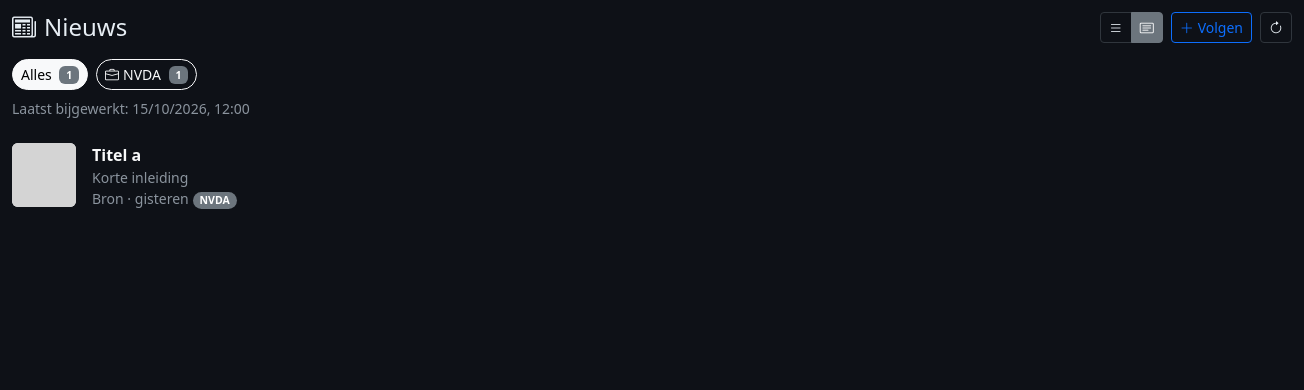
NewsComponent › verbergt afbeelding en inleiding in de compacte weergave en onthoudt die keuze
This screenshot has width=1304, height=390.
Click the button with test id "view-compact". click: (1116, 28)
box: left=1100, top=12, right=1132, bottom=43
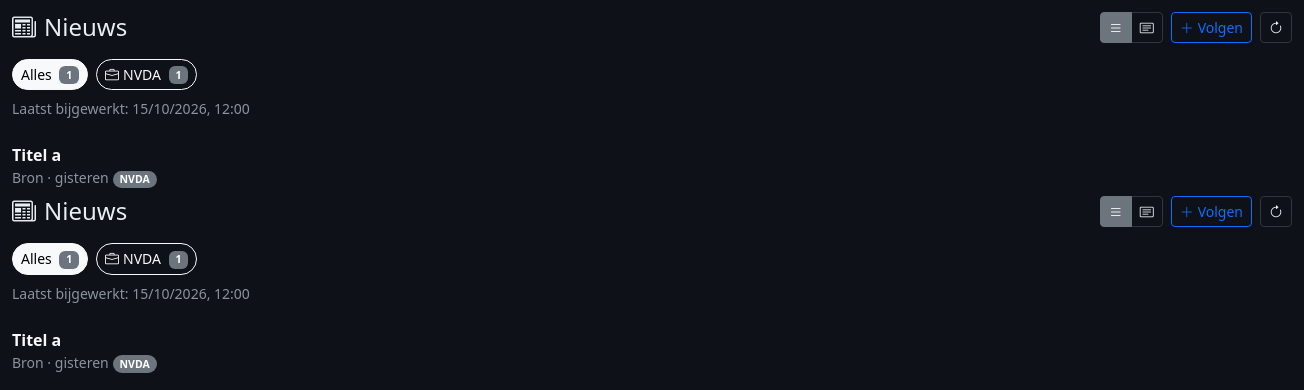
expect the text with test id "summary" is gone: met
expect the picture with test id "thumb" is gone: met
